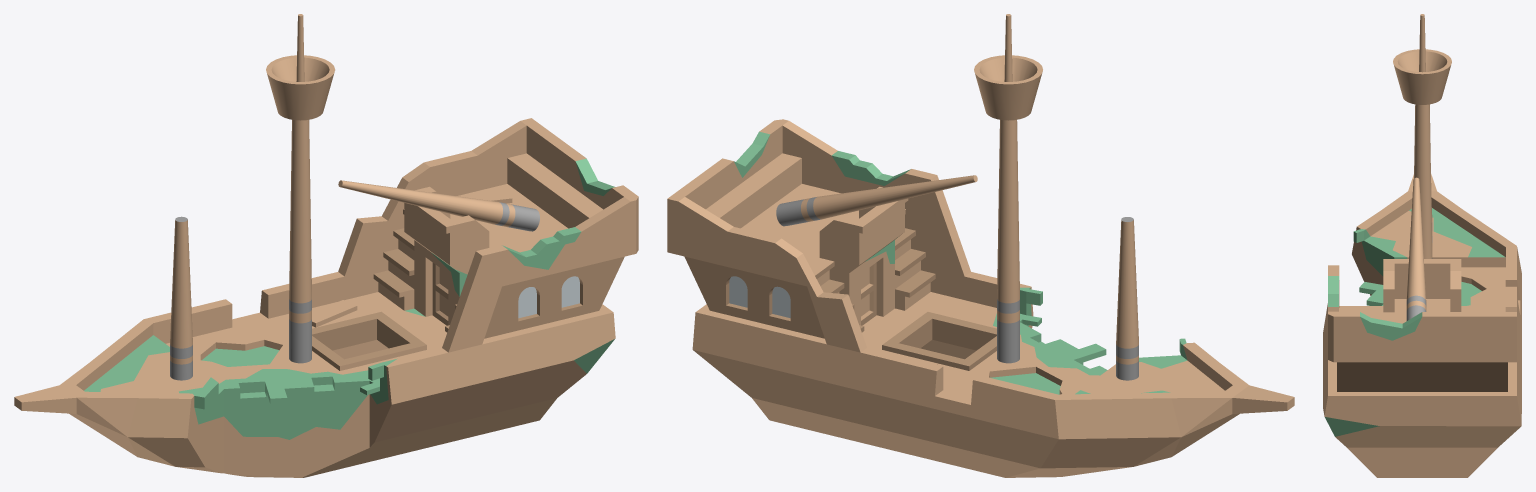
The model's file is ship_wreck.gltf.
The picture shows the model from 3 angles, left to right: view 1: azimuth 30°, elevation 25°; view 2: azimuth 150°, elevation 25°; view 3: azimuth 270°, elevation 25°; orthographic projection. The views are drawn at different scales.
Visible parts, largest first — view 1: ship_wreck_8angles; view 2: ship_wreck_8angles; view 3: ship_wreck_8angles.
Part boxes in pixels (x1=…): ship_wreck_8angles: x1=14, y1=14, x2=638, y2=477; ship_wreck_8angles: x1=667, y1=14, x2=1294, y2=477; ship_wreck_8angles: x1=1323, y1=14, x2=1521, y2=477.
Size of the model in its own units: 8.05 by 5.92 by 2.85.
